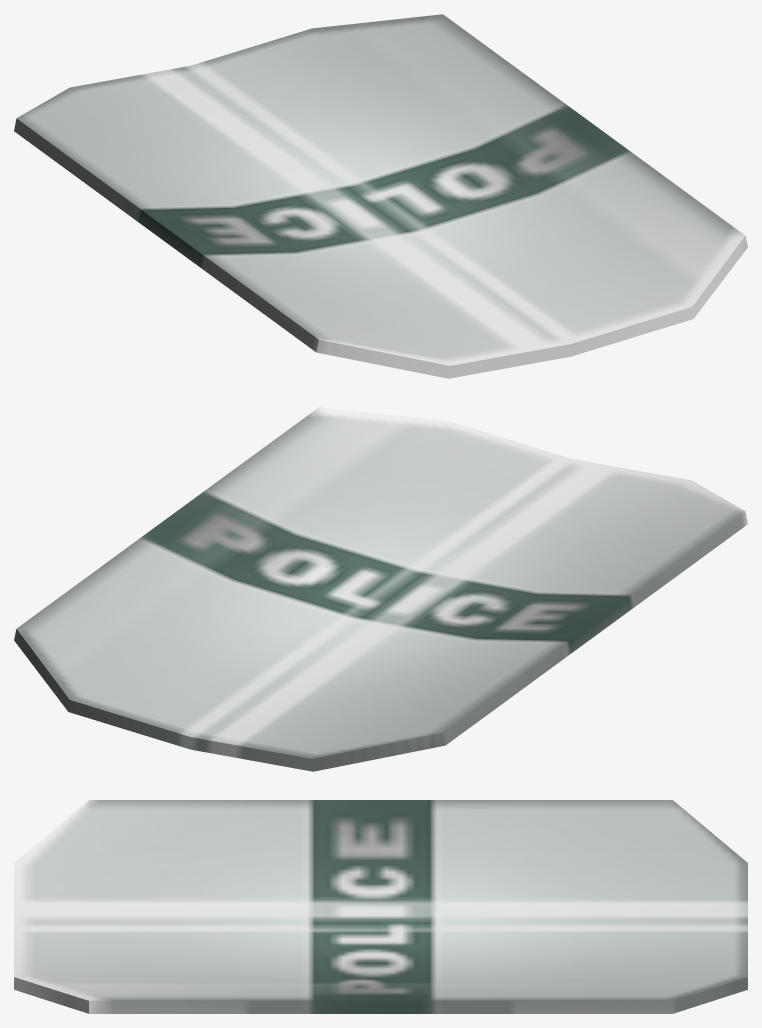
File: Shield_10f9b1c8__Avatar_Swat_C_02_acc93a74_c1f257.obj
The picture shows the model from 3 angles, top to bottom: view 1: azimuth 30°, elevation 25°; view 2: azimuth 150°, elevation 25°; view 3: azimuth 270°, elevation 25°; orthographic projection. The views are drawn at different scales.
Bounding box in the file's own units: 0.7184 × 0.0644 × 1.1.
1 material, 1 textured.
